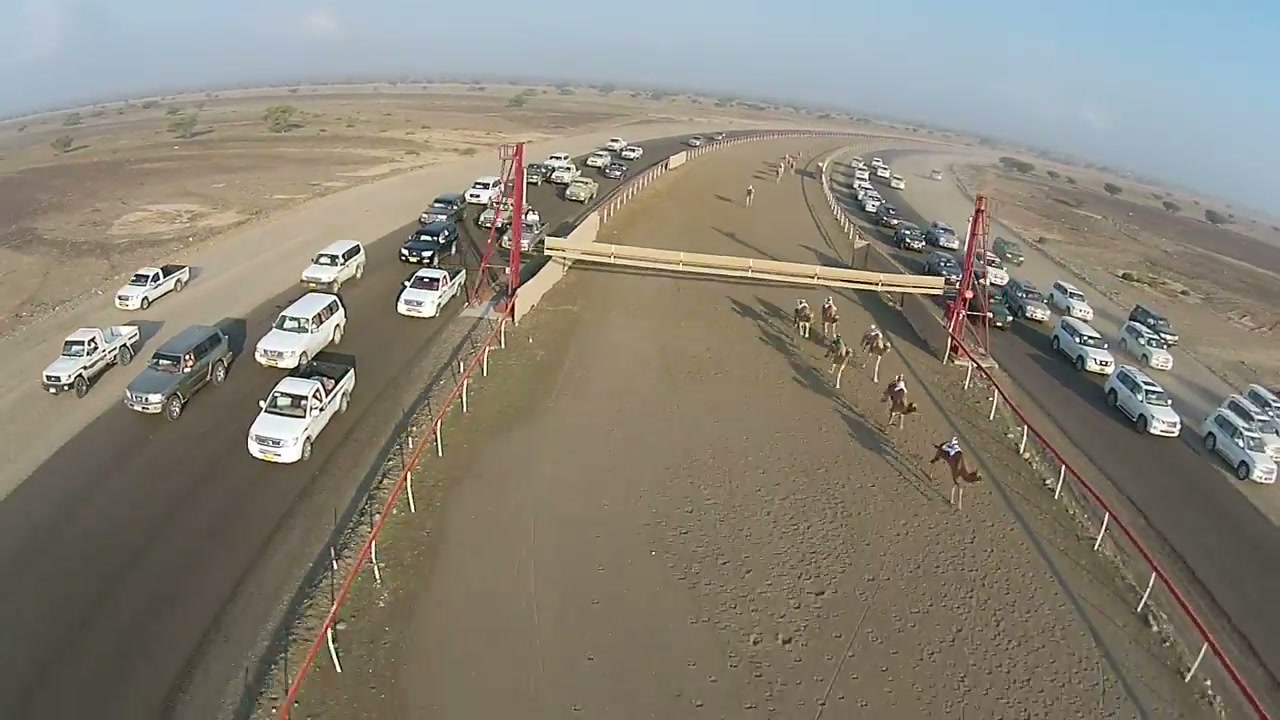animal_foot_print: (784, 338, 1140, 709)
